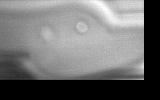cell: (70, 15, 91, 38), (36, 22, 57, 43), (73, 18, 89, 36)
